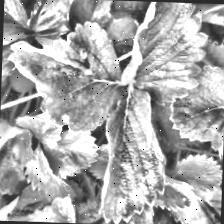Powdery Mildew Leaf: (4, 17, 130, 135), (118, 0, 210, 110), (96, 86, 168, 224), (1, 0, 35, 85), (25, 192, 80, 223)
